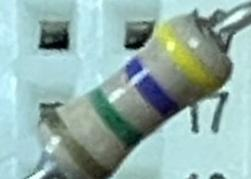Blue: (120, 51, 183, 123)
Green: (83, 84, 146, 155)
Side-Silver: (40, 105, 112, 179)
Yellow: (152, 18, 223, 102)
